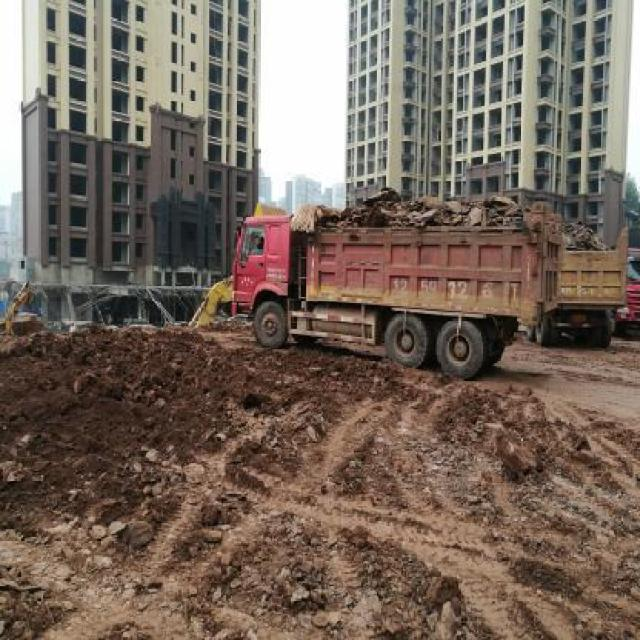dump_truck: (237, 198, 558, 376), (524, 223, 628, 351)
